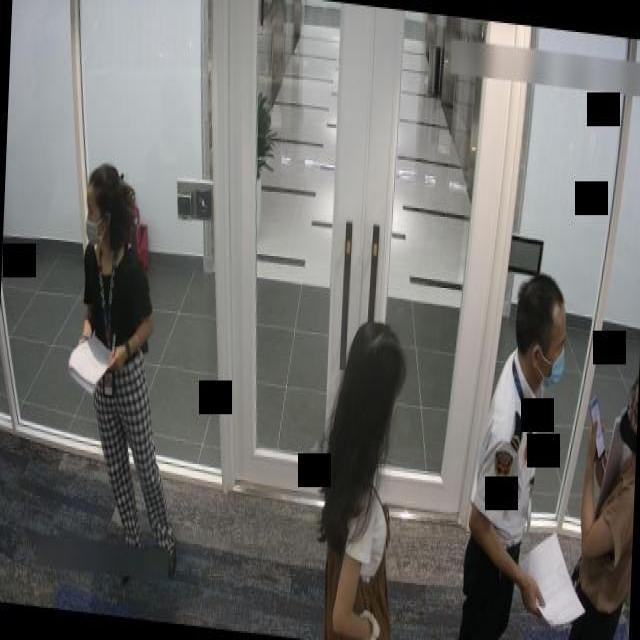hairnet: (618, 381, 638, 454)
